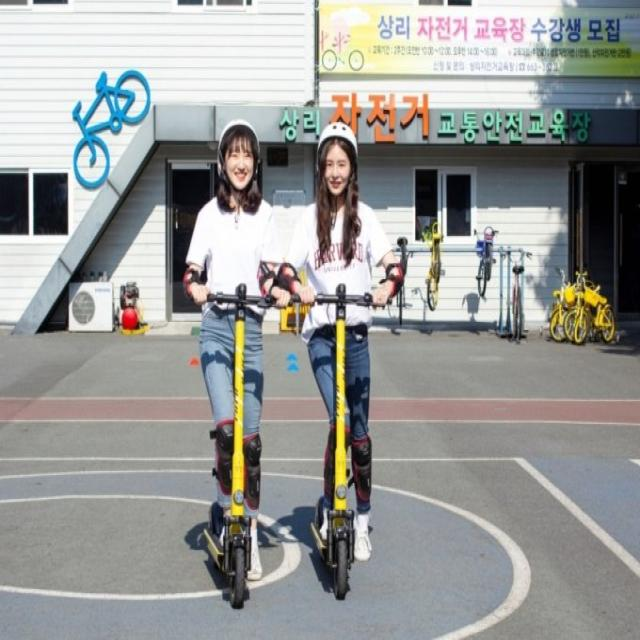helmet: (274, 83, 432, 606), (164, 101, 303, 615)
